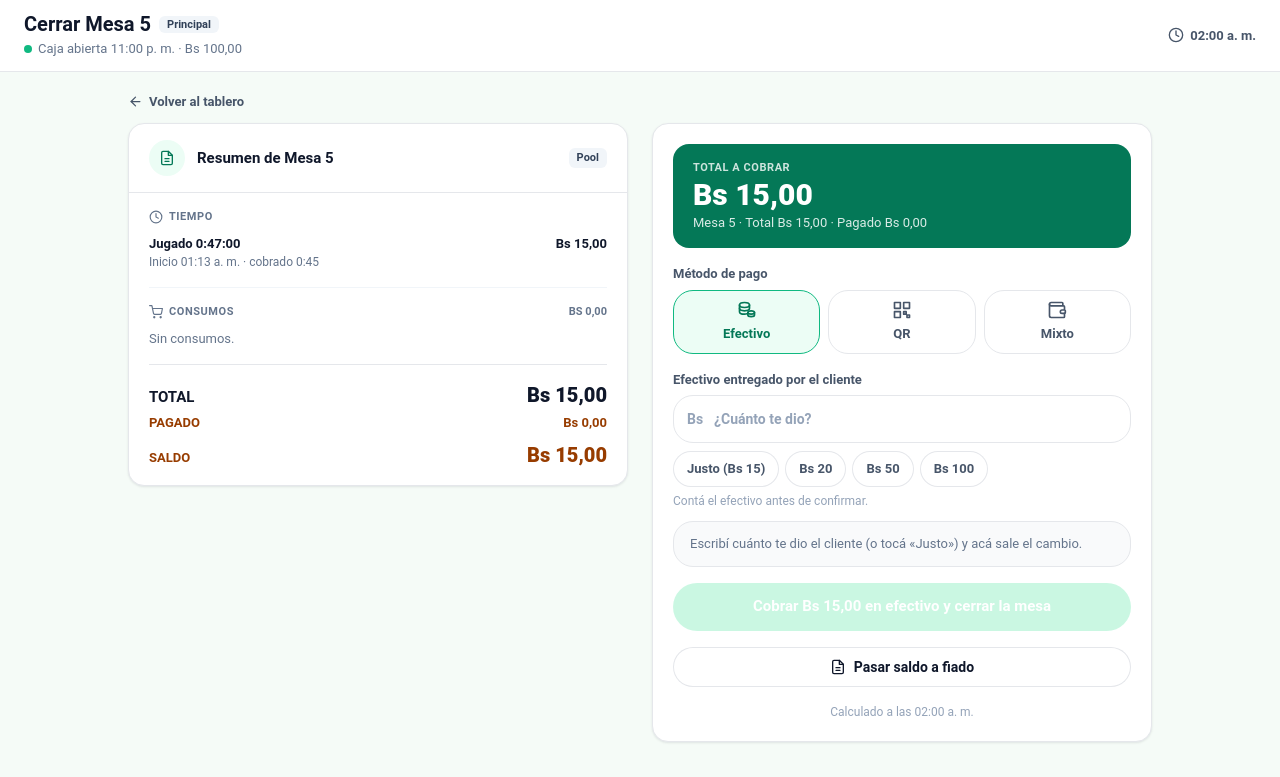
Test case: Cerrar mesa con la cuenta vieja › un QR a la vista sin confirmar también cuenta: el aviso lo nombra y la cuenta nueva queda en Mixto
Expected: the text "Total a cobrar" is shown, [693,161,790,174]
Step 1. Click the radio button labelled "QR" → (902, 322), box [828,290,976,354]
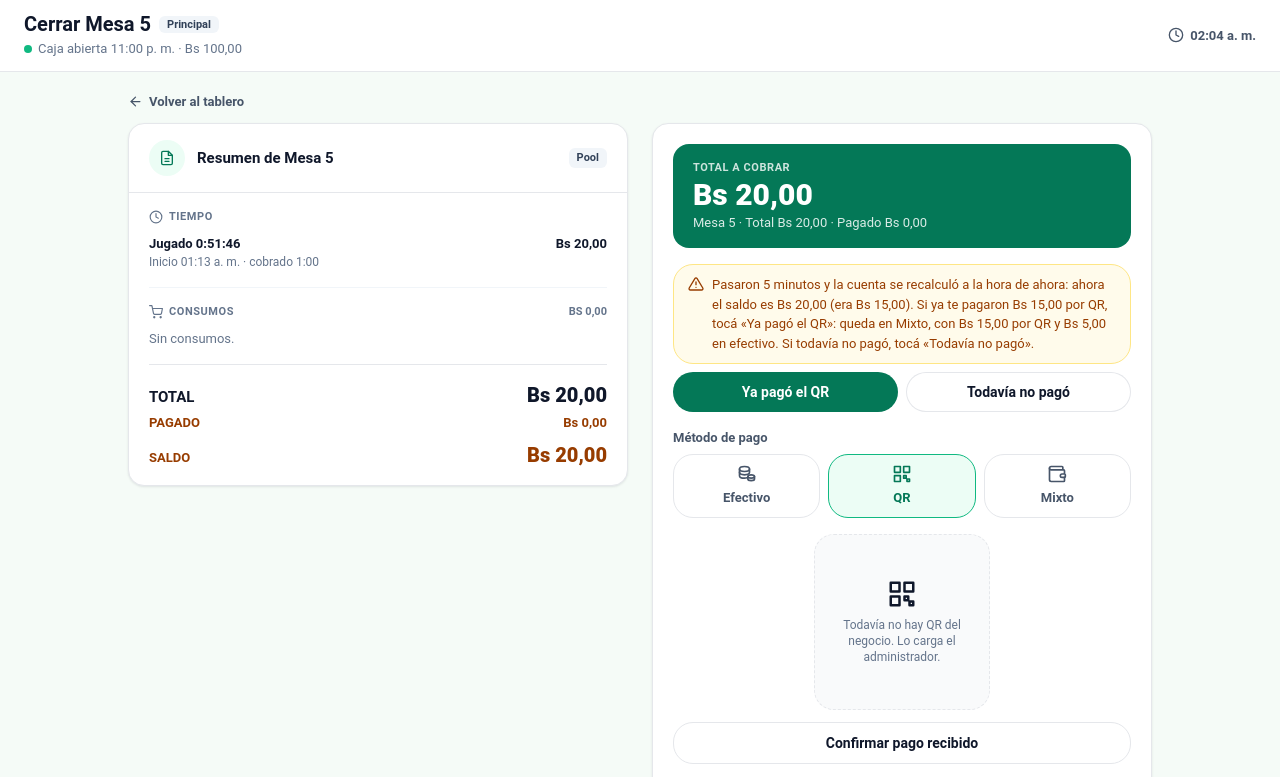
Result: the text "Pasaron 5 minutos" shows "Si ya te pagaron Bs.15,00 por QR, tocá «Ya pagó el QR»: queda en Mixto, con Bs.15,00 por QR y Bs.5,00 en efectivo. Si todavía no pagó, tocá «Todavía no pagó»." at [712,277,1107,350]
Step 2. Click the button "Ya pagó el QR" → (786, 392), box [673,372,898,412]
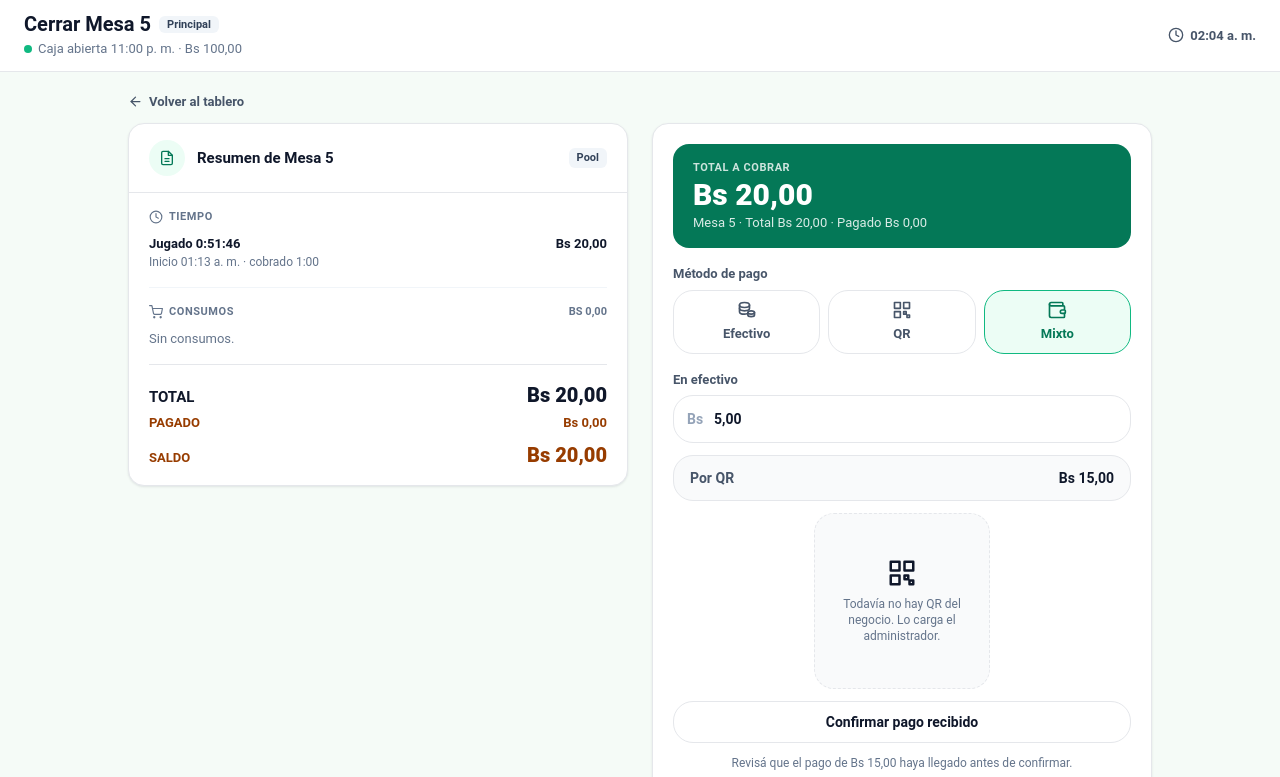
Result: the field named "En efectivo" holds "5,00" at [673,395,1131,443]
